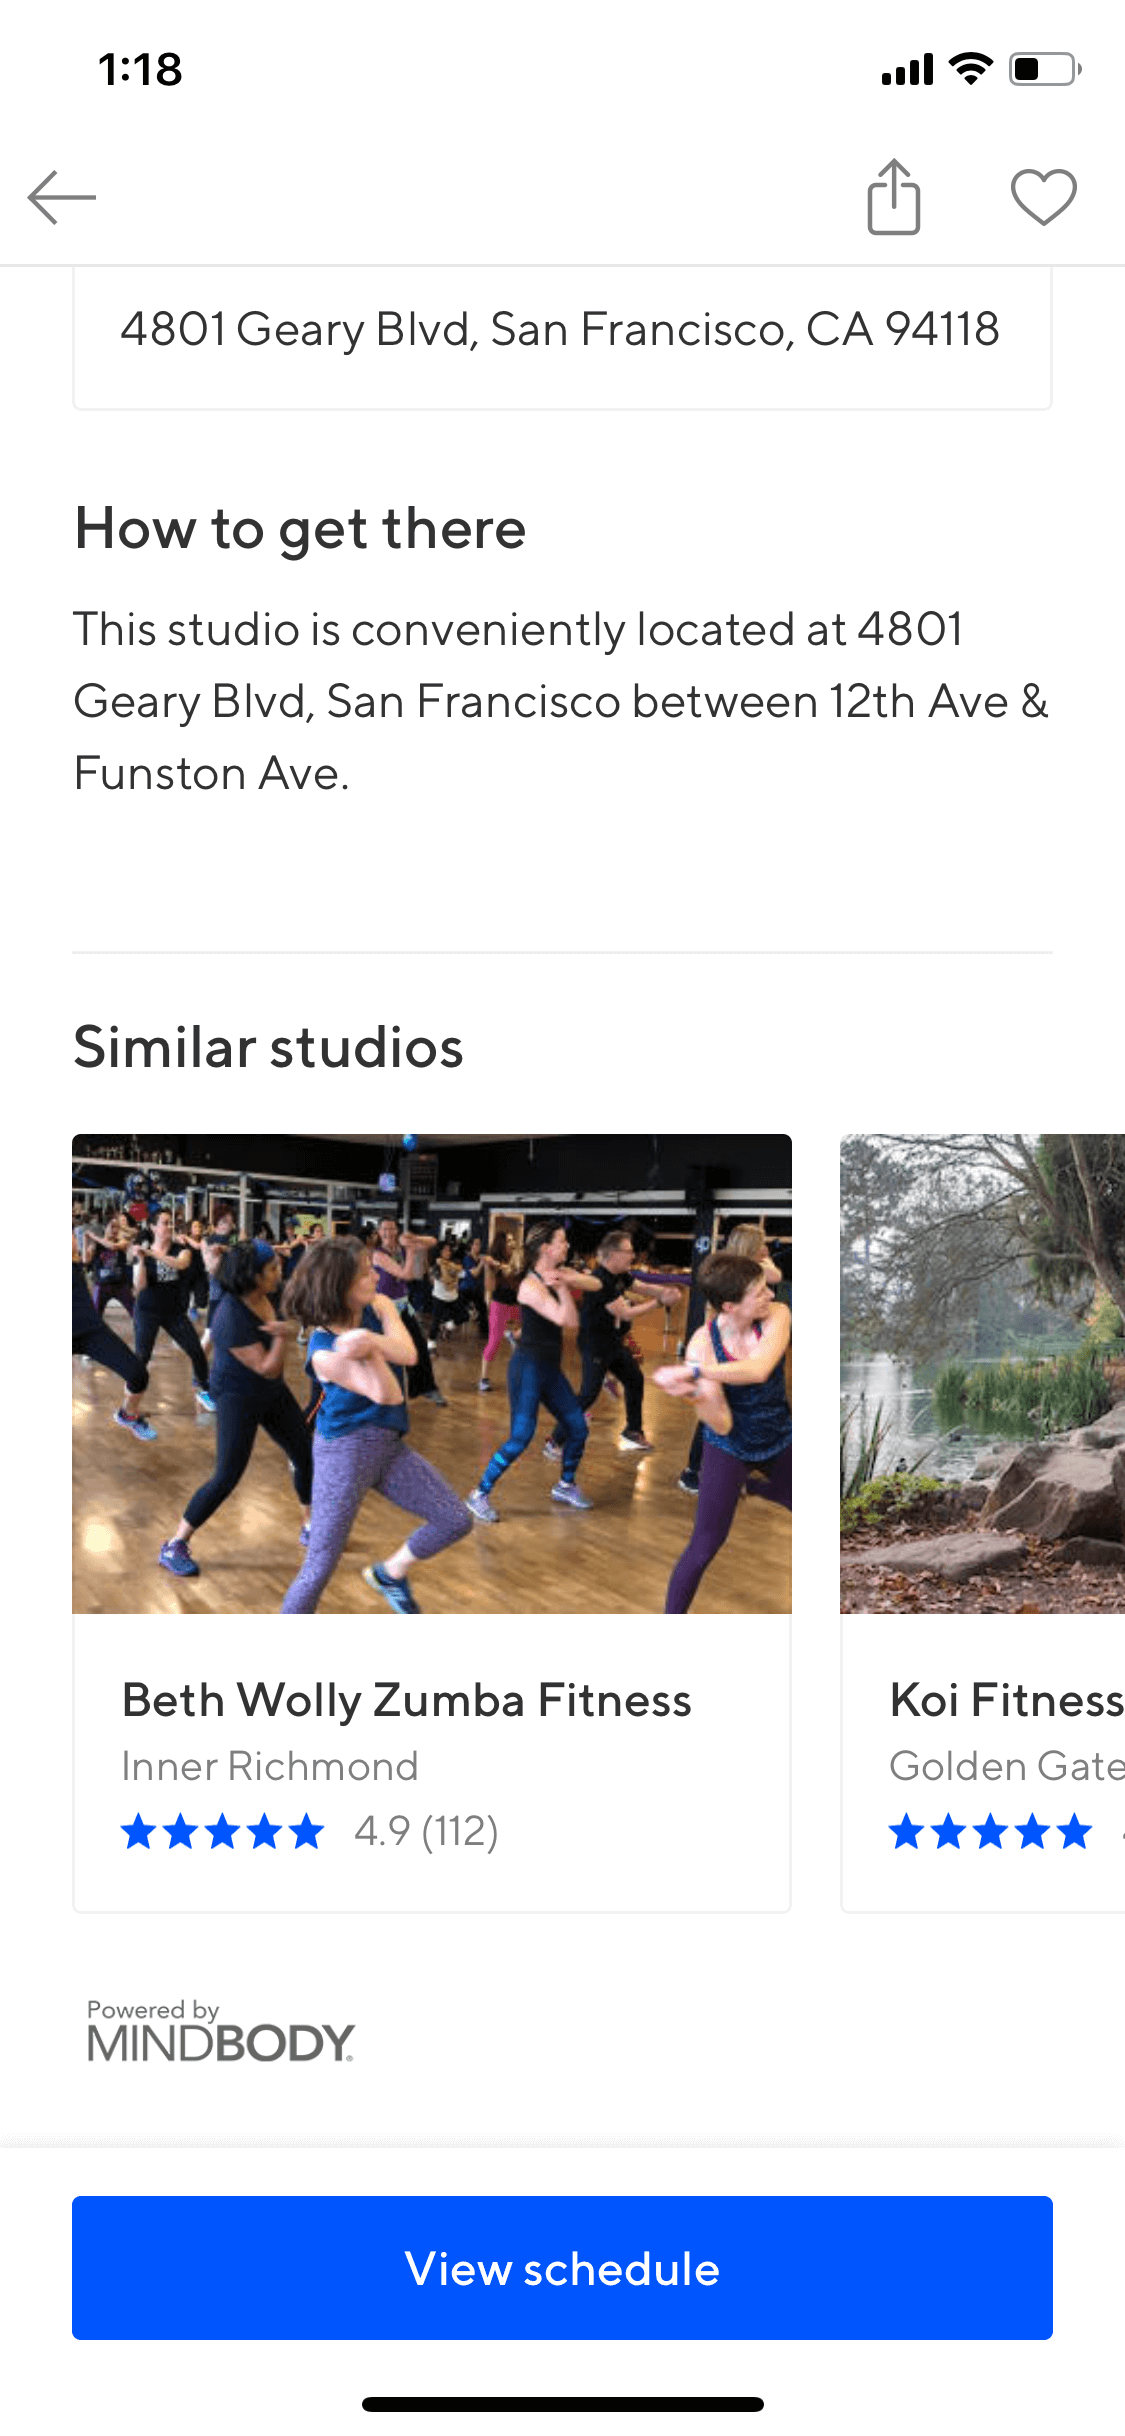Buttons: (57, 2180, 1069, 2358), (2, 138, 134, 256), (833, 138, 954, 256), (987, 141, 1094, 253)
Rating: (99, 1794, 510, 1875), (873, 1794, 1125, 1877)
